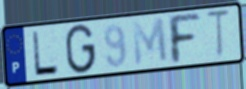9: (102, 23, 129, 70)
F: (165, 12, 203, 66)
G: (64, 22, 97, 76)
L: (30, 29, 61, 77)
M: (130, 16, 170, 68)
T: (205, 8, 233, 62)
